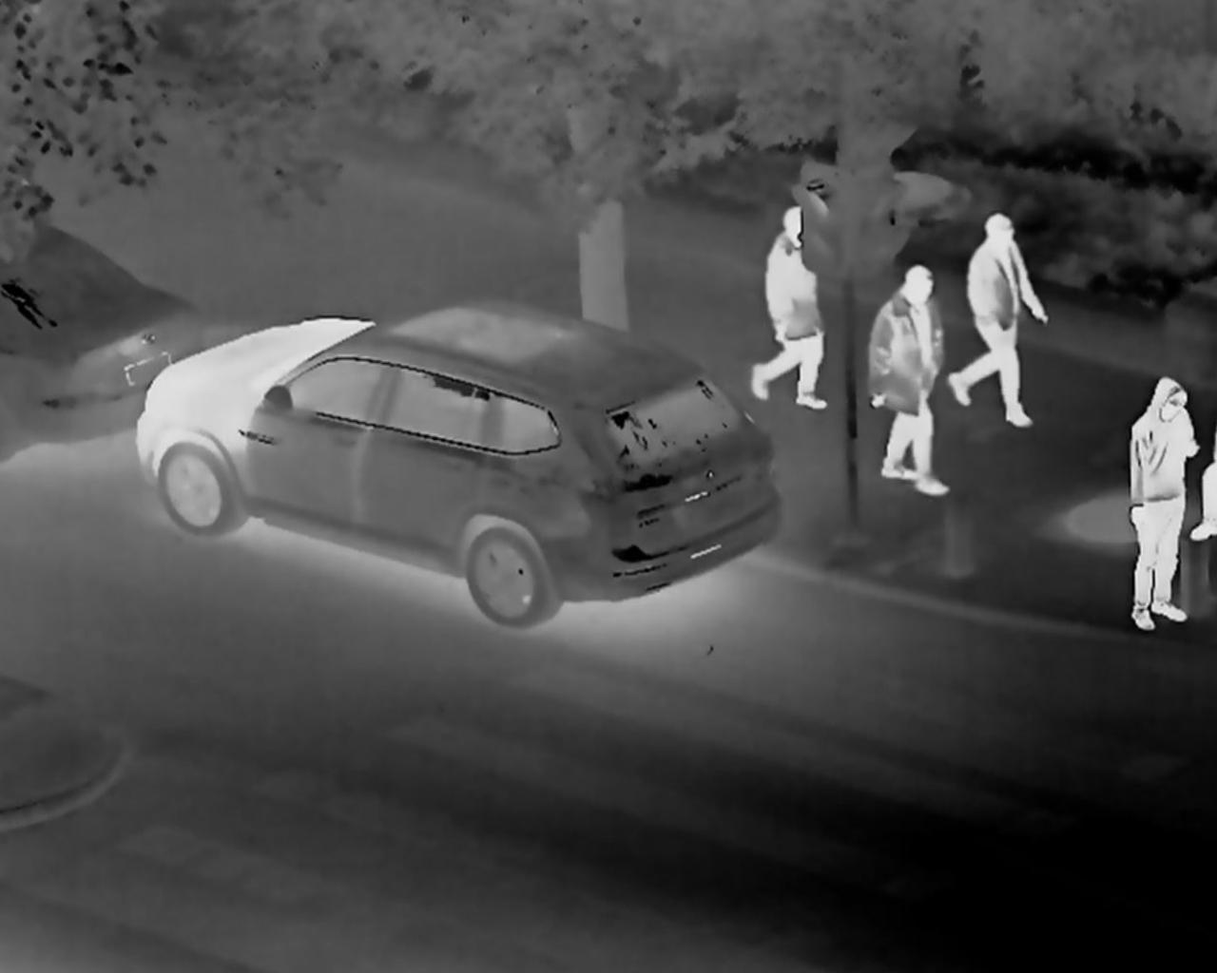person: (940, 205, 1051, 429), (1118, 372, 1199, 631), (863, 261, 951, 496), (745, 203, 829, 412)
